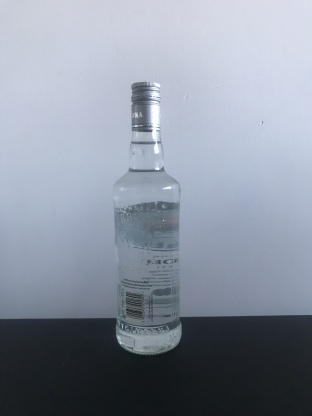nakretka: (129, 78, 163, 135)
